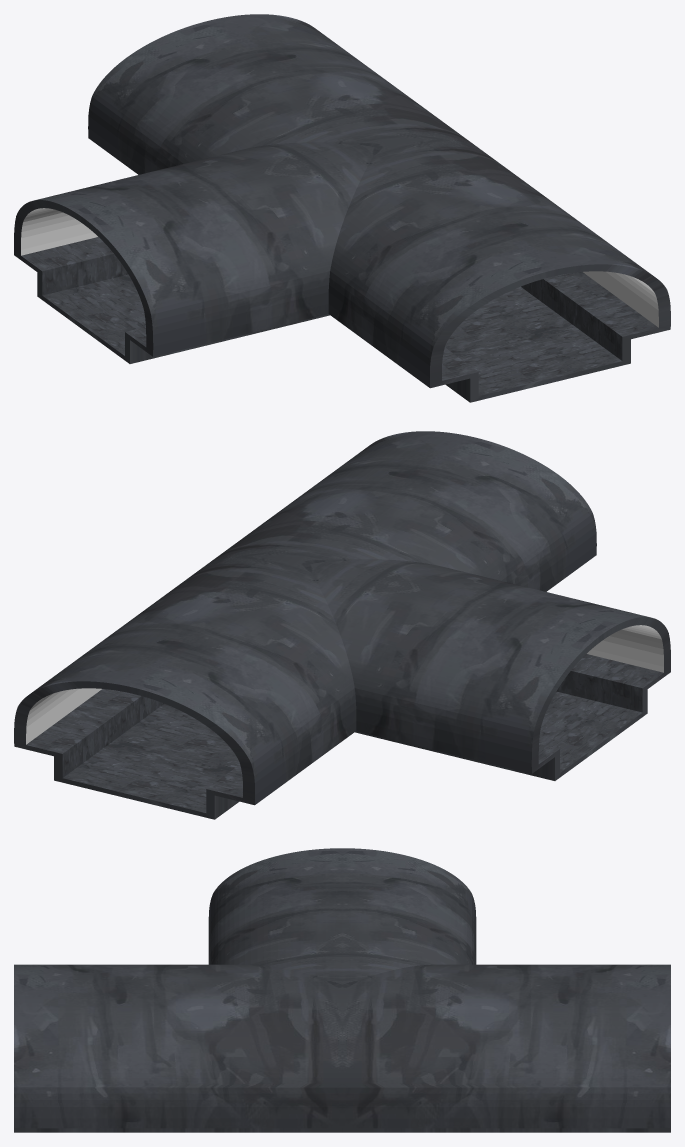
Rendered from Tway.fbx.
3 views of the same model, one above another, from view 1: azimuth 30°, elevation 25°; view 2: azimuth 150°, elevation 25°; view 3: azimuth 270°, elevation 25° (orthographic). The views are drawn at different scales.
Parts seen in each view (by area): view 1: Cylinder; view 2: Cylinder; view 3: Cylinder.
Boxes of the visible parts, left/top/right/bottom form: Cylinder: left=14, top=14, right=670, bottom=402; Cylinder: left=14, top=431, right=670, bottom=819; Cylinder: left=14, top=848, right=670, bottom=1132.
Size of the model in its own units: 2075 by 534 by 2946.
Materials: 2 (1 with a texture image).
